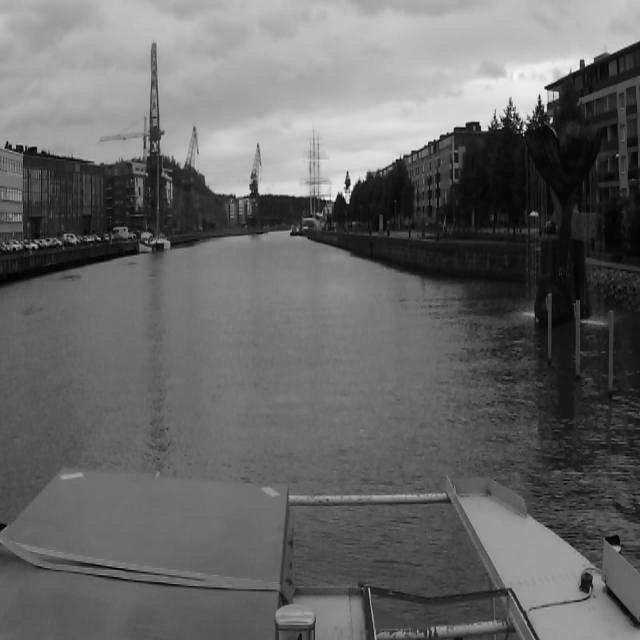ship: (301, 125, 332, 234), (151, 151, 171, 248), (136, 230, 152, 252)
